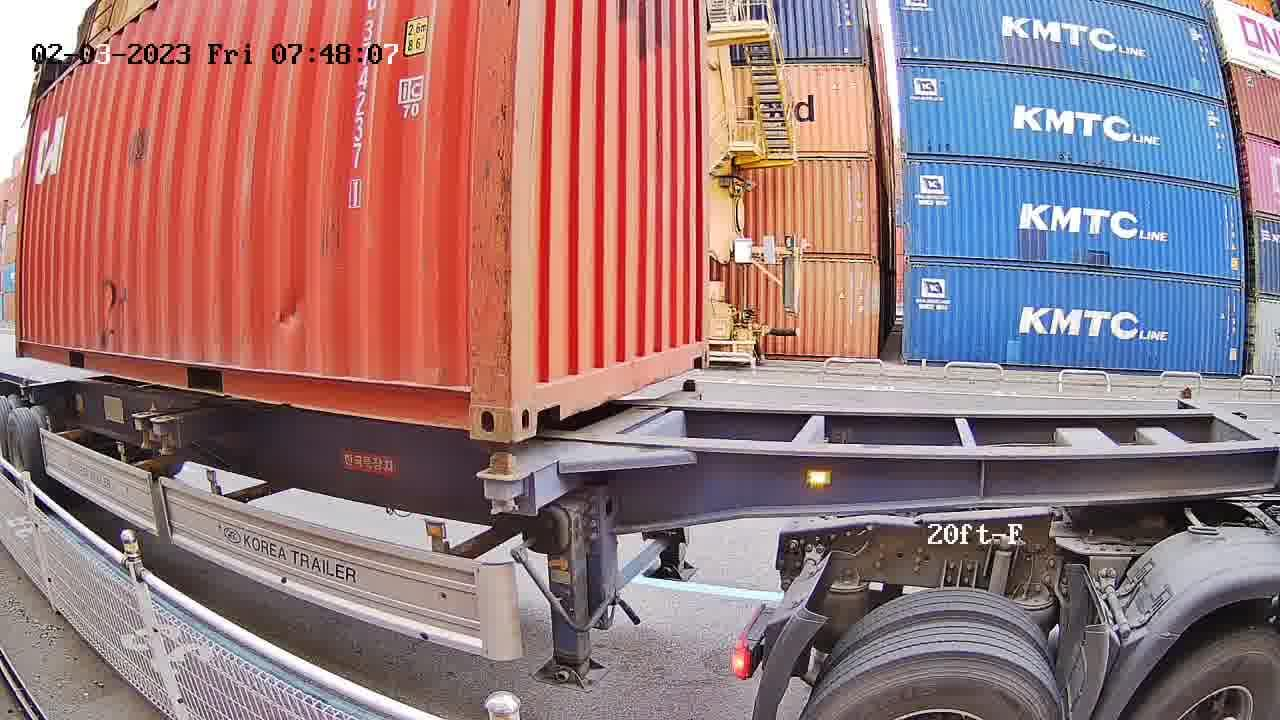Chassis: (477, 390, 705, 482)
Cone: (481, 453, 523, 516), (678, 380, 699, 394)
Hole_L: (510, 350, 568, 443)
Hole_R: (436, 361, 510, 445), (684, 324, 710, 371)
